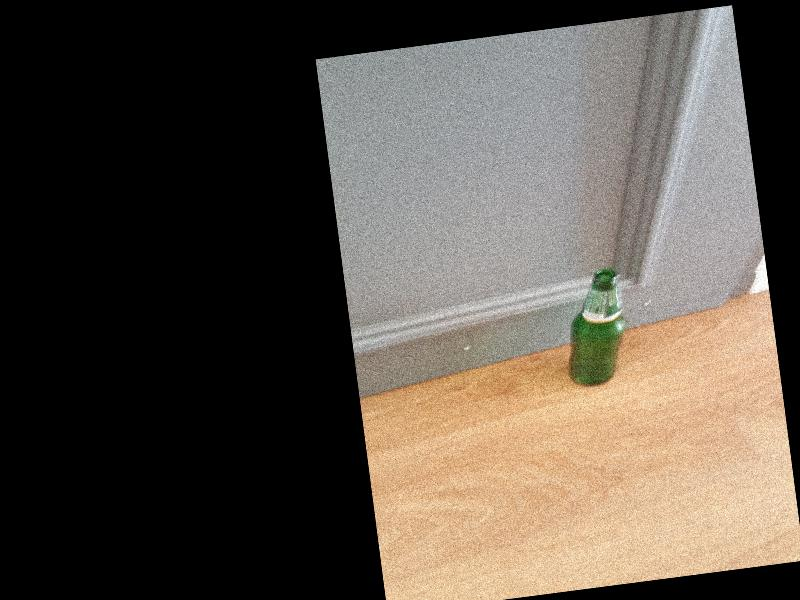Beer: (558, 269, 630, 388)
